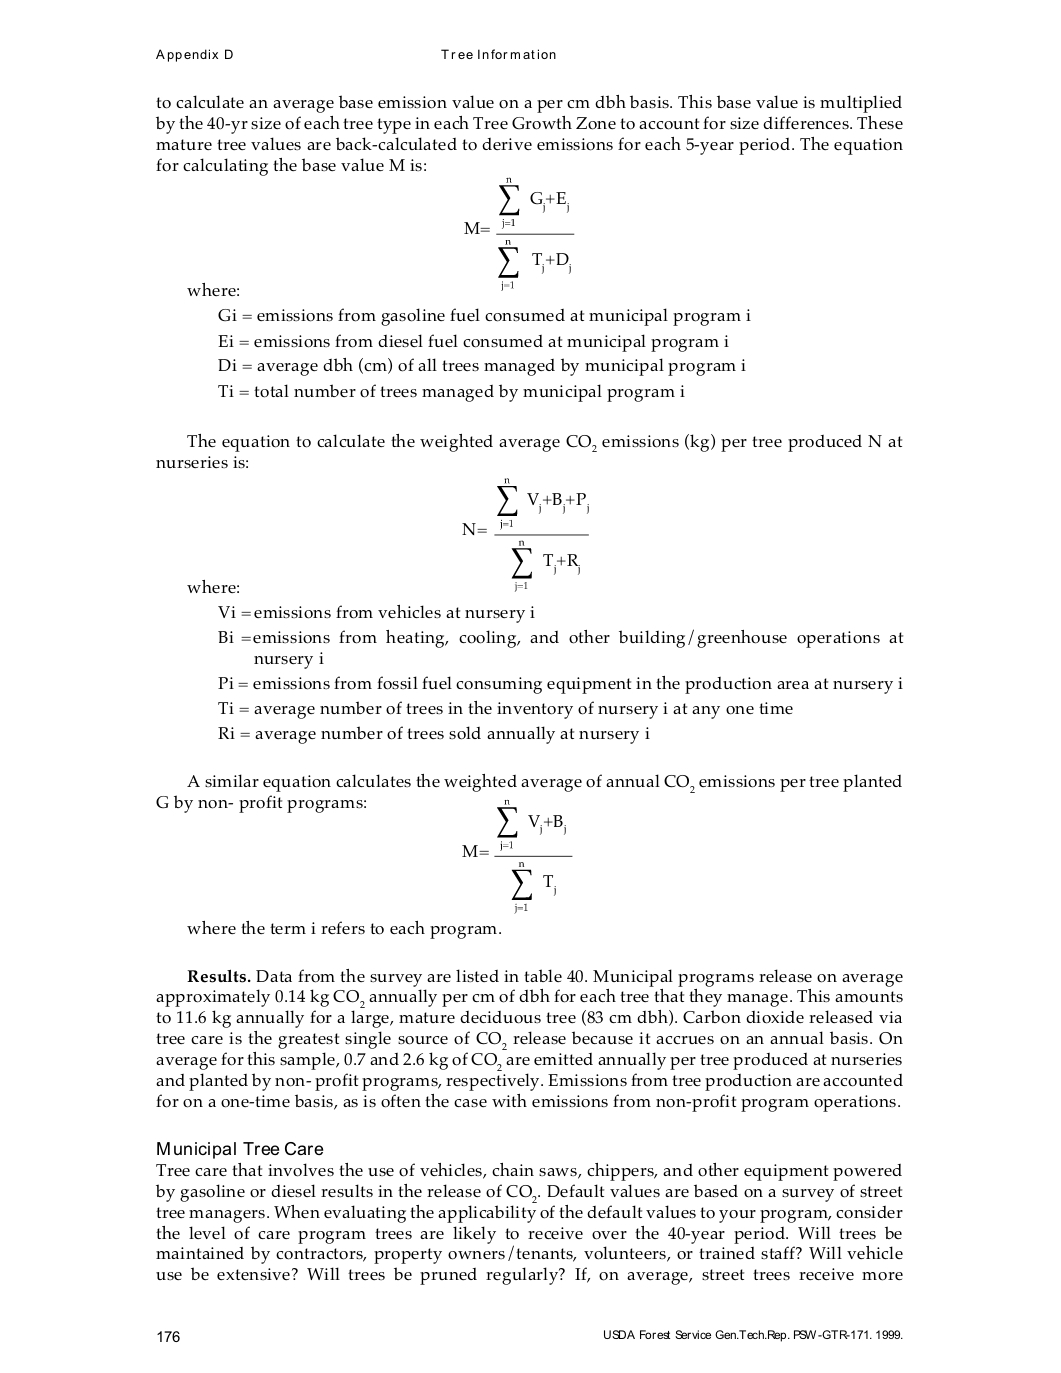formula: (463, 478, 588, 591), (464, 177, 574, 290), (463, 799, 572, 913)
